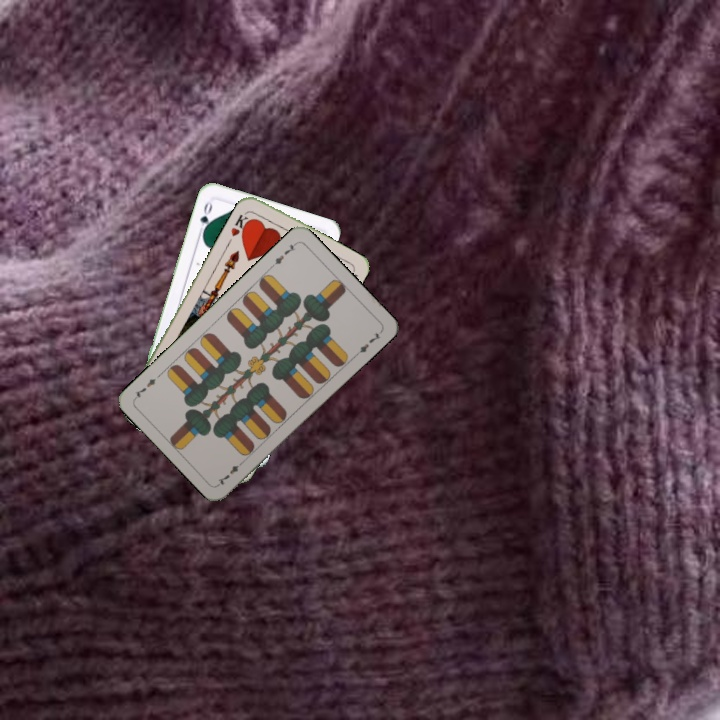E7: (214, 456, 247, 488), (267, 239, 300, 270)
GO: (195, 197, 215, 237)
HK: (227, 207, 254, 240)
